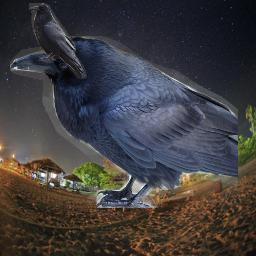Crow: (10, 36, 238, 208), (29, 3, 87, 80)
